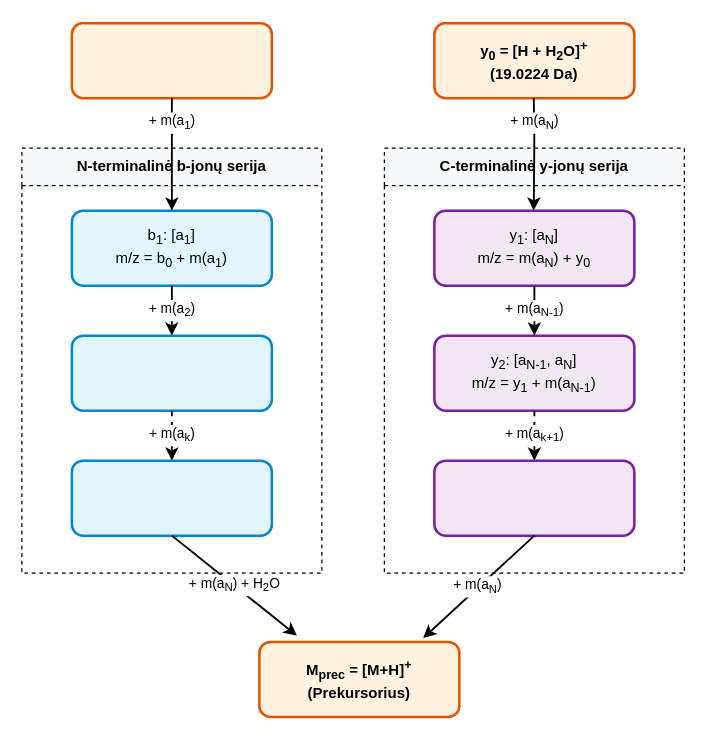
The diagram is 706 pixels wide and 739 high, and some of its shapes have lost their labels. Here are the shapes that lost their labels. From the top down, the centre of each, then its label:
the point at 171,60: b 0 = [H] + (1.0073 Da)
the point at 171,372: b 2 : [a 1 , a 2 ] m/z = b 1 + m(a 2 )
the point at 171,497: b k : [a 1 , ..., a k ] m/z = b k-1 + m(a k )
the point at 533,497: y N-k : [a k+1 , ..., a N ] m/z = y N-k-1 + m(a k+1 )
